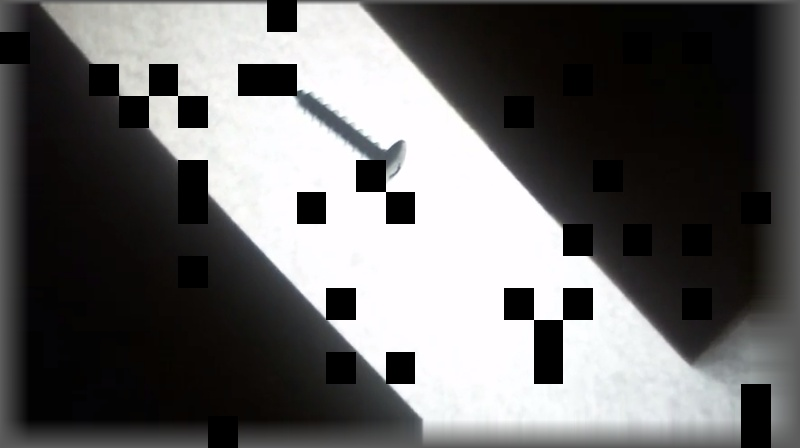S003: (286, 87, 411, 192)
